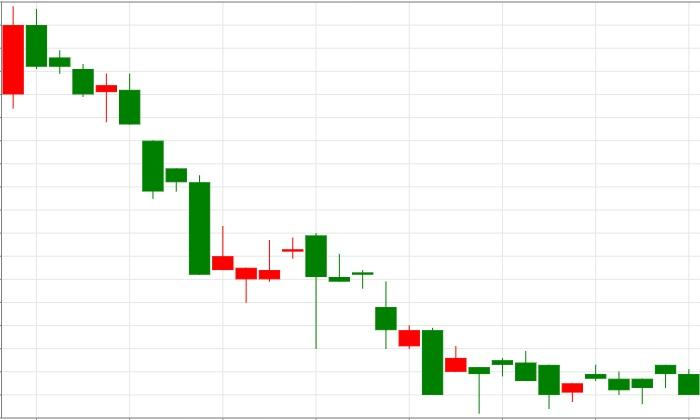bearish_engulfing_fall: (235, 232, 328, 349)
